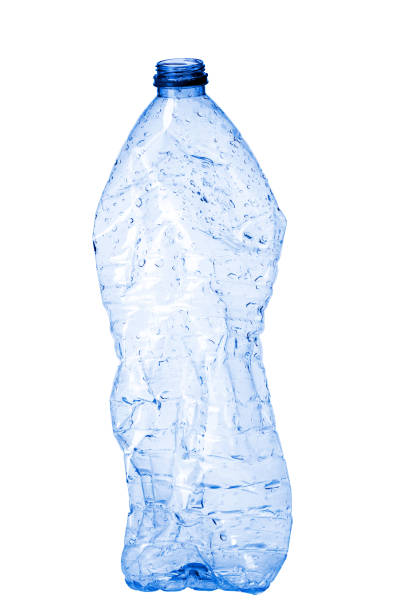plastic_bottle: (89, 54, 297, 597)
